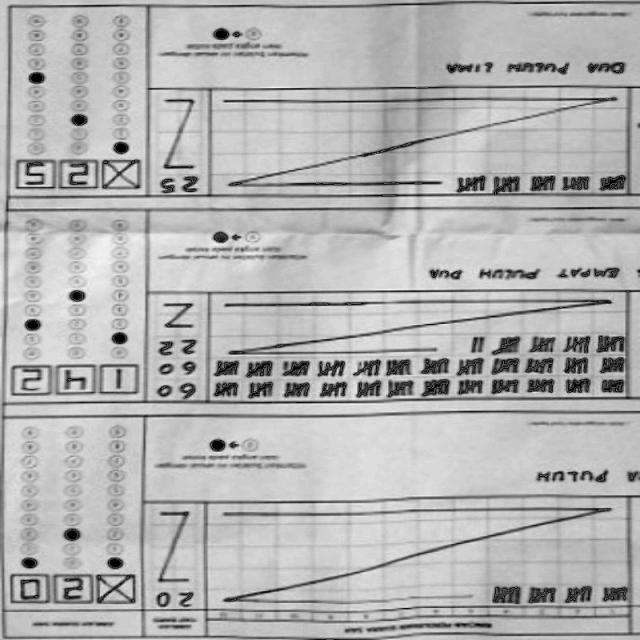Suara: (2, 568, 139, 610), (7, 153, 145, 194), (6, 359, 143, 400)
